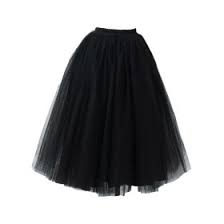C_skirt: (25, 15, 196, 201)
